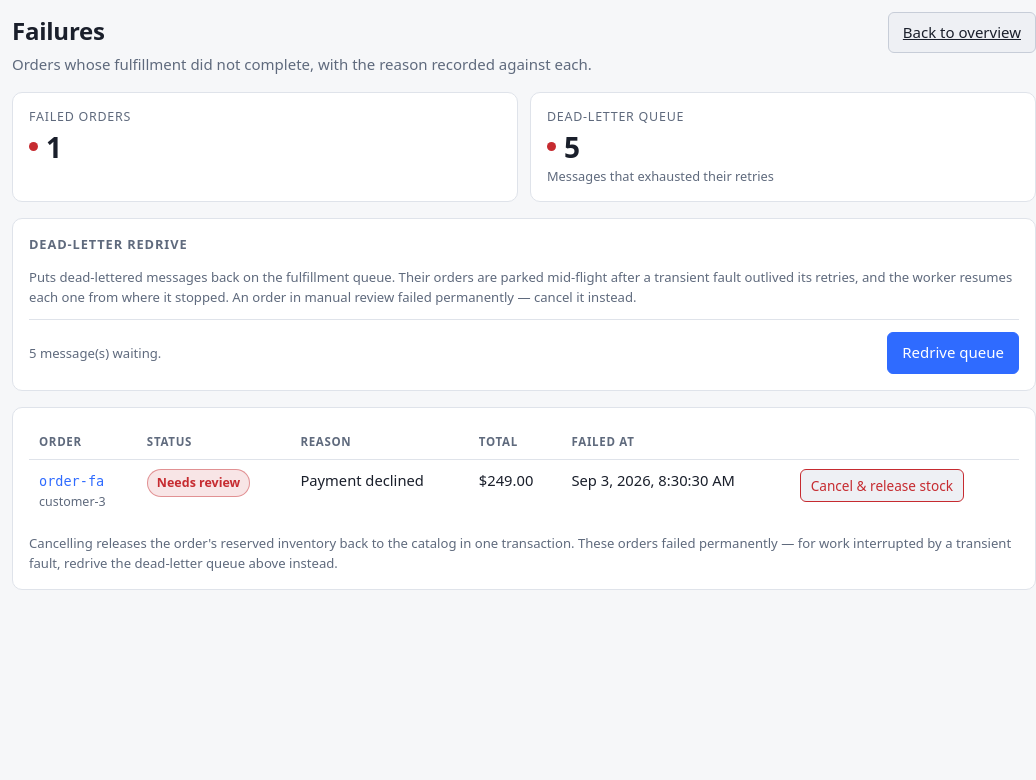
Scenario: FailuresPage › surfaces the 409 when a redrive was already started elsewhere
Click the button "Redrive queue" at x=953, y=353, box top-left (887, 332), bottom-right (1019, 374)
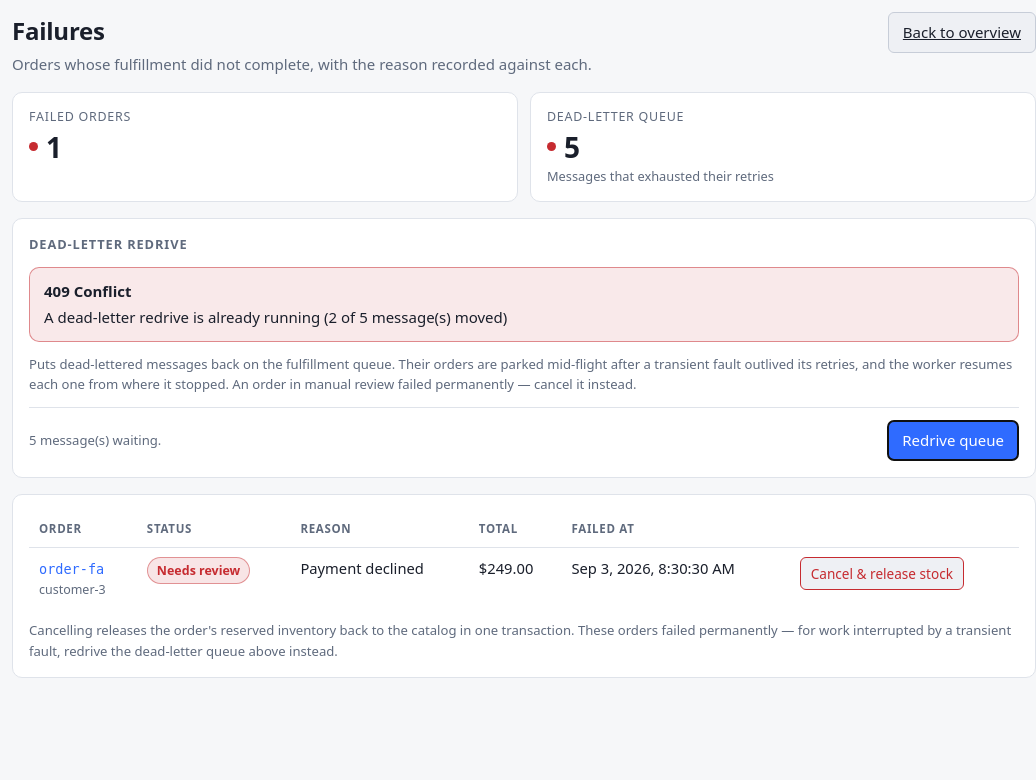
expect the message shows "already running (2 of 5": met, box top-left (44, 307), bottom-right (507, 327)
